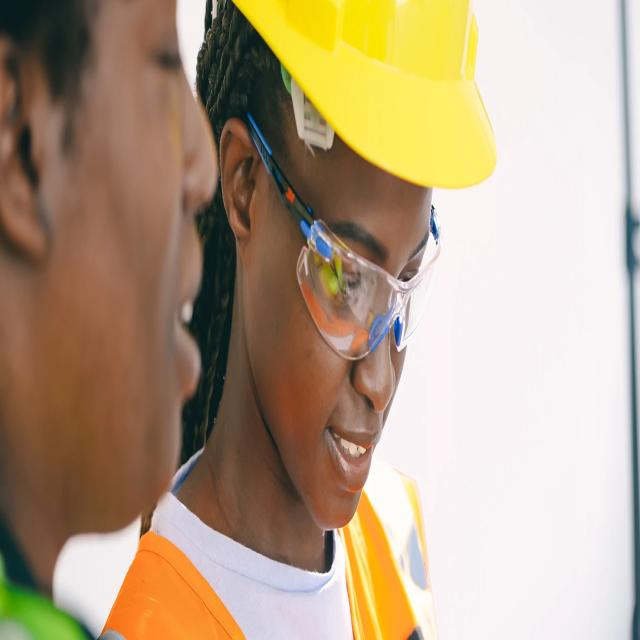goggles: (269, 150, 446, 365)
helmet: (221, 0, 502, 185)
vest: (149, 439, 436, 640)
